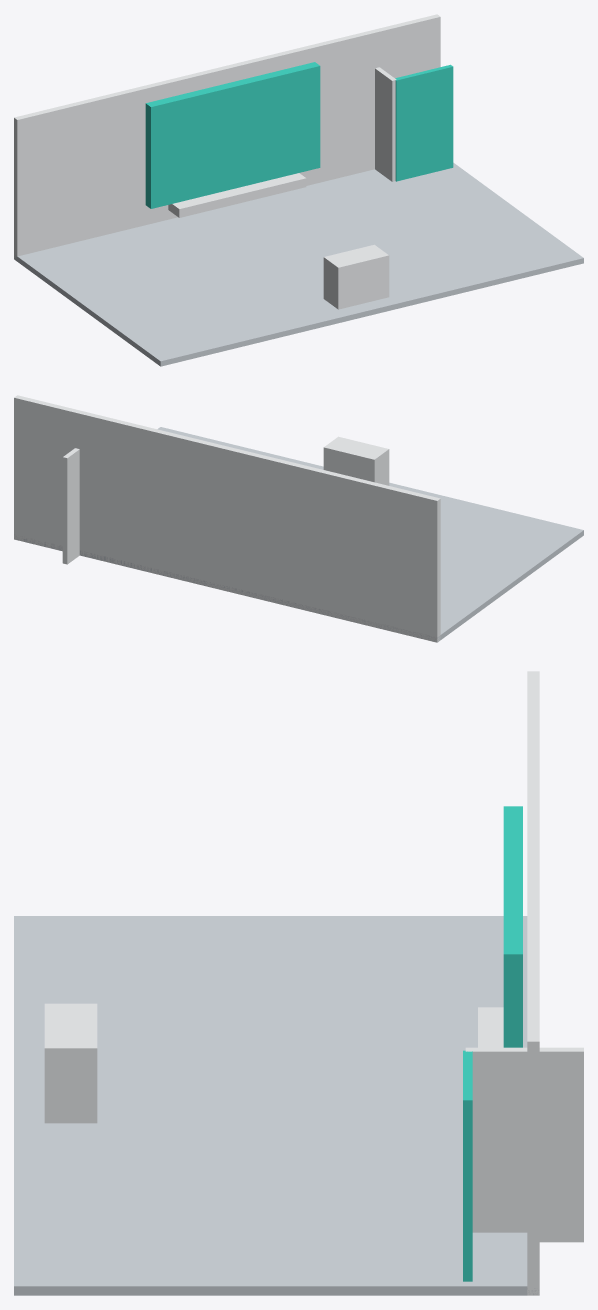
3 renders of one model, top to bottom at view 1: azimuth 30°, elevation 25°; view 2: azimuth 150°, elevation 25°; view 3: azimuth 270°, elevation 25°, orthographic. The views are drawn at different scales.
Visible parts, largest first — view 1: Exhibition Booth Concept; view 2: Exhibition Booth Concept; view 3: Exhibition Booth Concept.
Boxes of the visible parts, x1,y1,x2,y2 form: Exhibition Booth Concept: (14, 14, 583, 366); Exhibition Booth Concept: (14, 395, 583, 642); Exhibition Booth Concept: (14, 671, 583, 1295).
Size of the model in its own units: 10 by 3.2 by 6.51.
